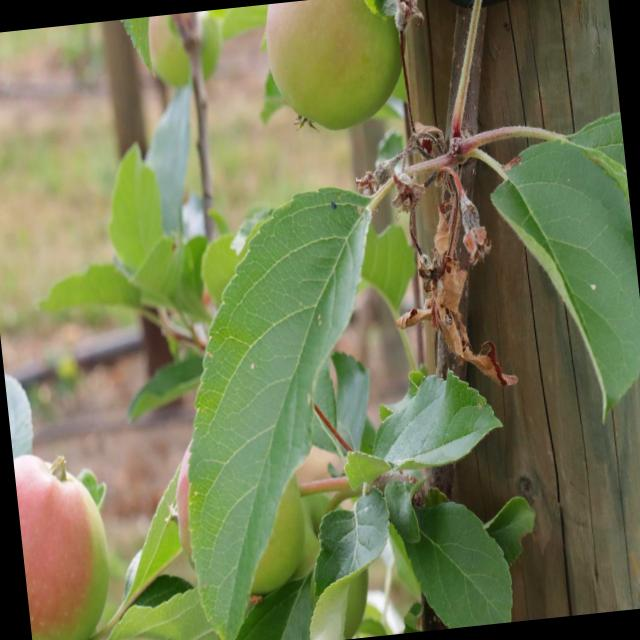-FireBlight-: (412, 123, 509, 394)
